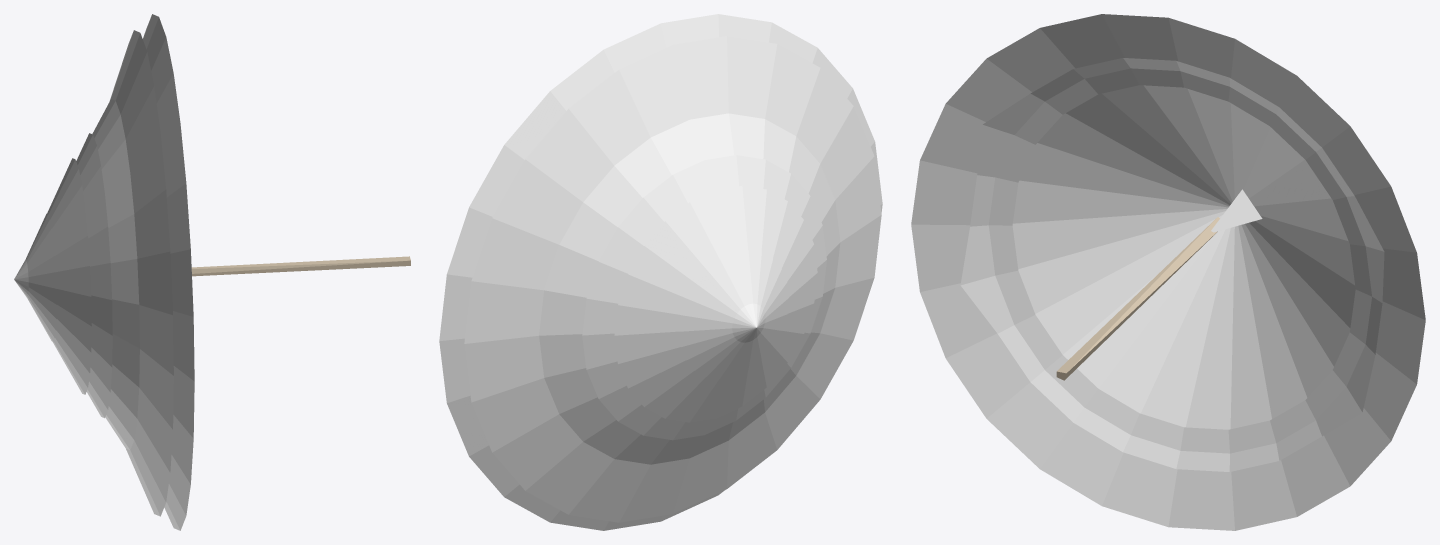
The model's file is low해변원두막.fbx.
3 views of the same model, side by side, from view 1: azimuth 30°, elevation 25°; view 2: azimuth 150°, elevation 25°; view 3: azimuth 270°, elevation 25° (orthographic). The views are drawn at different scales.
Parts seen in each view (by area): view 1: Group_169672, Group_169684, Group_169674, Group_169678, Group_169676, Group_169680, Group_169682; view 2: Group_169672, Group_169674, Group_169678, Group_169684, Group_169676, Group_169680, 해변_원두막_4_1; view 3: 해변_원두막_4_1, Group_169684, Group_169682, Group_169670.
Part boxes in pixels (box(x1,y1,x2,y2)): Group_169672: box(109, 30, 173, 516); Group_169684: box(143, 14, 194, 530); Group_169674: box(92, 99, 139, 449); Group_169678: box(47, 158, 91, 394); Group_169676: box(76, 133, 112, 418); Group_169680: box(26, 213, 56, 341); Group_169682: box(191, 256, 410, 276); Group_169672: box(464, 36, 881, 522); Group_169674: box(539, 113, 840, 464); Group_169678: box(614, 185, 817, 422); Group_169684: box(439, 14, 882, 530); Group_169676: box(582, 155, 826, 440); Group_169680: box(679, 250, 789, 378); 해변_원두막_4_1: box(732, 303, 765, 342); 해변_원두막_4_1: box(960, 58, 1384, 471); Group_169684: box(911, 14, 1425, 530); Group_169682: box(1056, 217, 1219, 380); Group_169670: box(1211, 189, 1262, 232).
Bounding box in the file's own units: 132 × 186 × 171.
